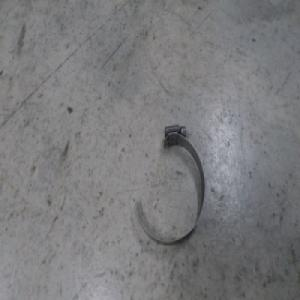AdjustableClamp: (132, 124, 205, 245)
